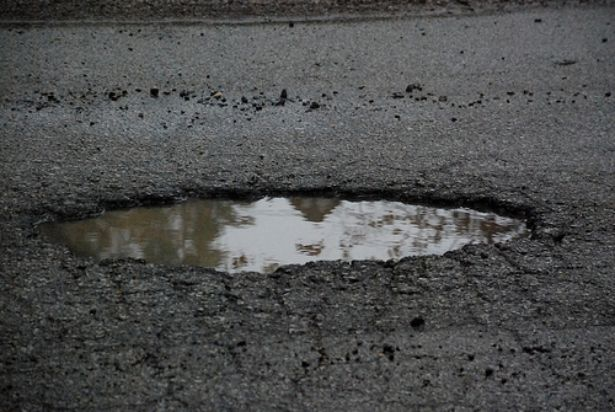pothole: (32, 178, 541, 280)
